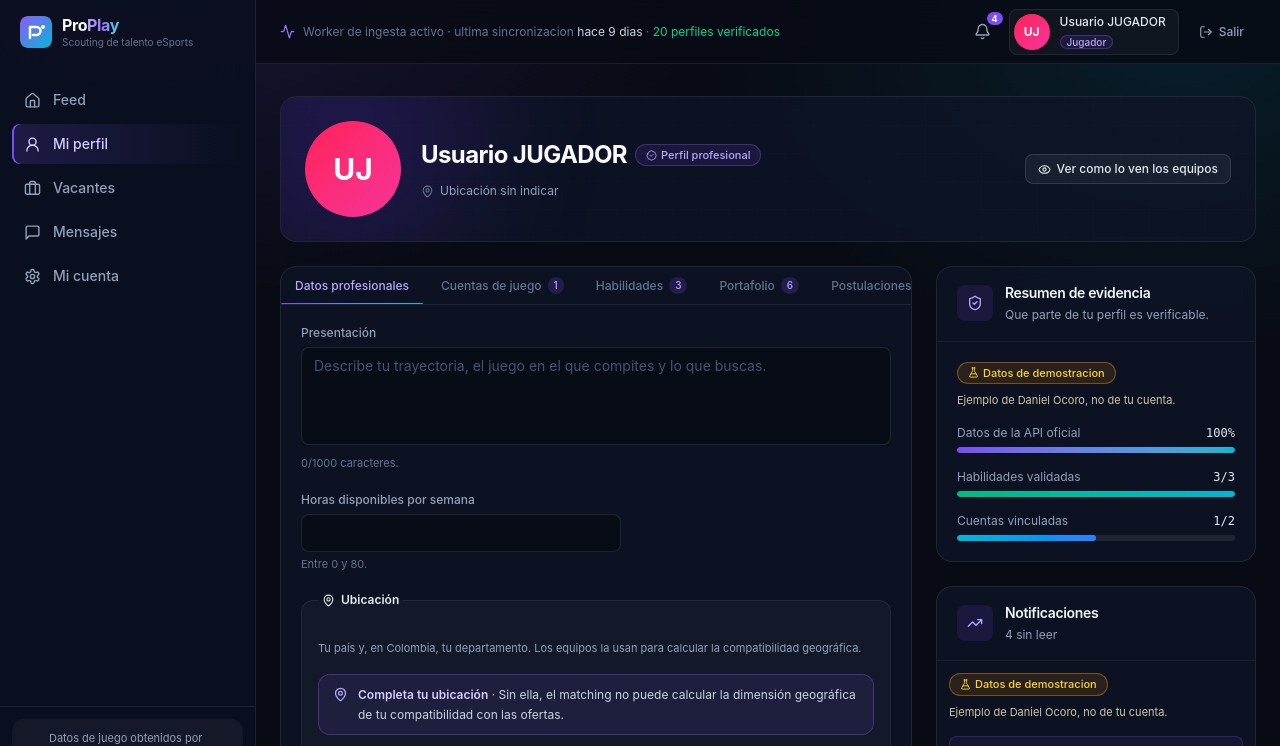
Scenario: Mi perfil › sin aviso de página: cada sección simulada lleva su propia marca
This screenshot has width=1280, height=746.
Expected: the heading "Resumen de evidencia" is shown, [1005, 284, 1150, 301]
Expected: the text "Datos de demostracion" is shown 2 times, [957, 362, 1116, 384]; [949, 673, 1108, 696]
Click the button "Cuentas de juego 1". click: point(502, 286)
box: [427, 267, 578, 304]
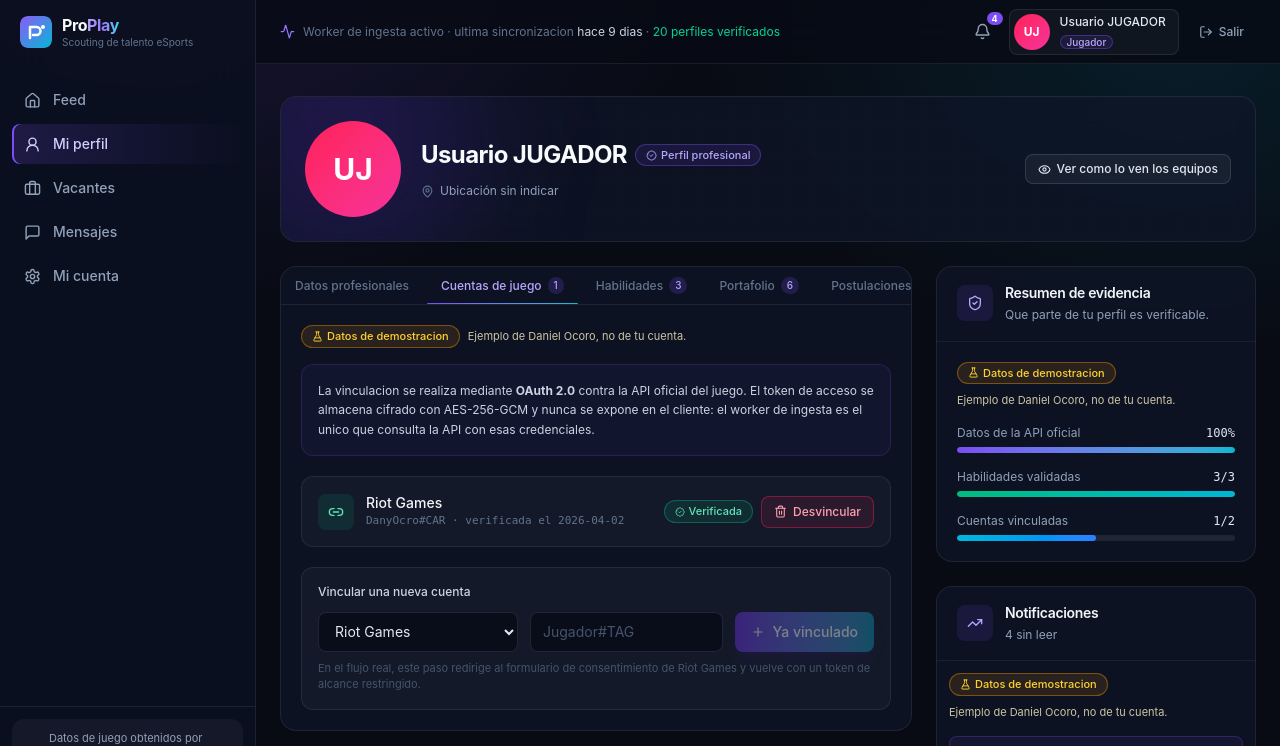
Expected: the text "Datos de demostracion" is shown 3 times, [301, 325, 460, 348]; [957, 362, 1116, 384]; [949, 673, 1108, 696]
Expected: the text "Datos de demostracion Ejemplo de Daniel Ocoro, no de tu cuenta." is shown, [301, 325, 686, 348]
